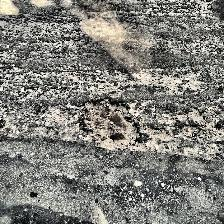pothole: (74, 96, 144, 152), (180, 106, 224, 142)
